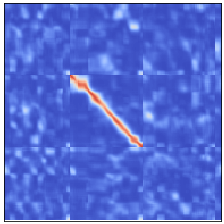action_path: (68, 75, 142, 149)
